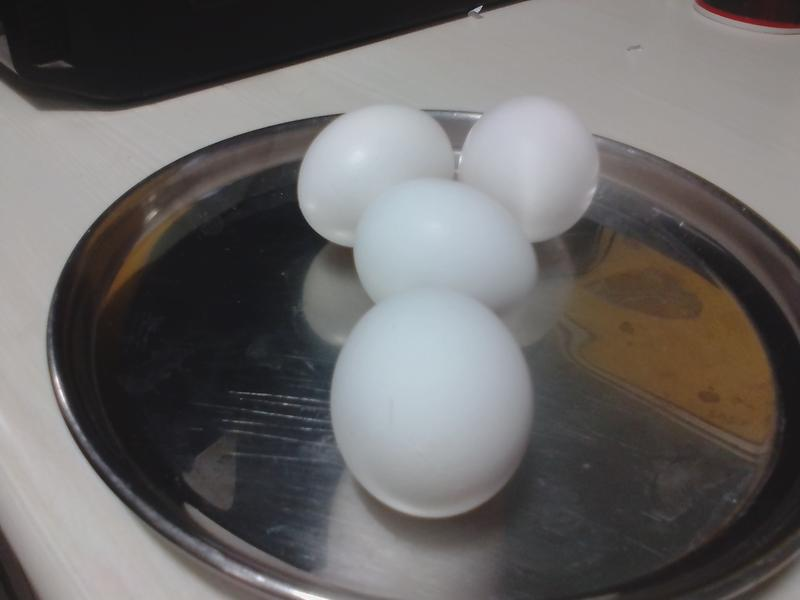egg: (328, 287, 528, 518)
